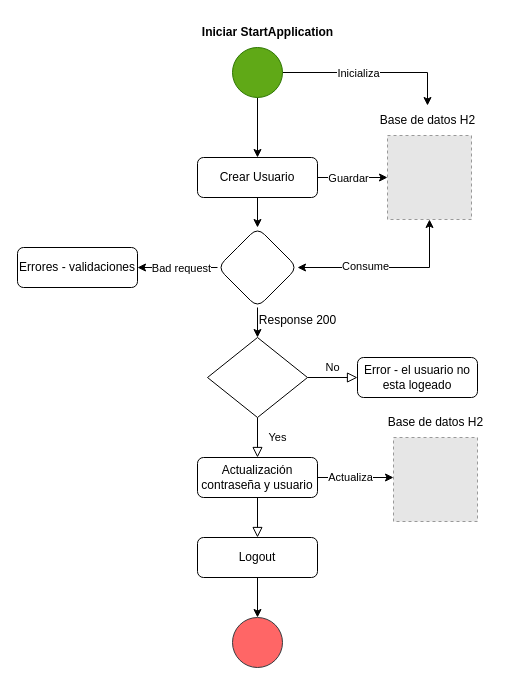
Some shapes in this 513 by 685 pixel diagram are drawn without their labels. Grey dashed boxes stand in for pictures. The centre of each missing label's shape, as x and y in pixels:
Métodos Crud: point 257,267
Validación usuario Logeado: point 257,377
